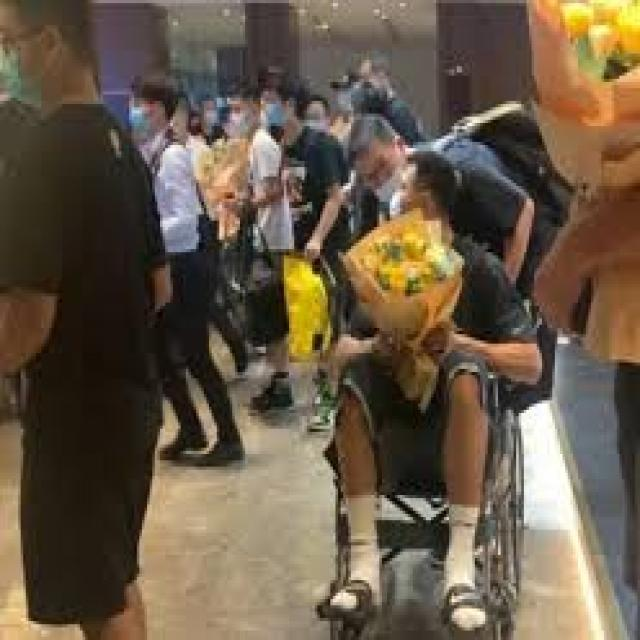wheelchairs: (310, 284, 550, 630)
